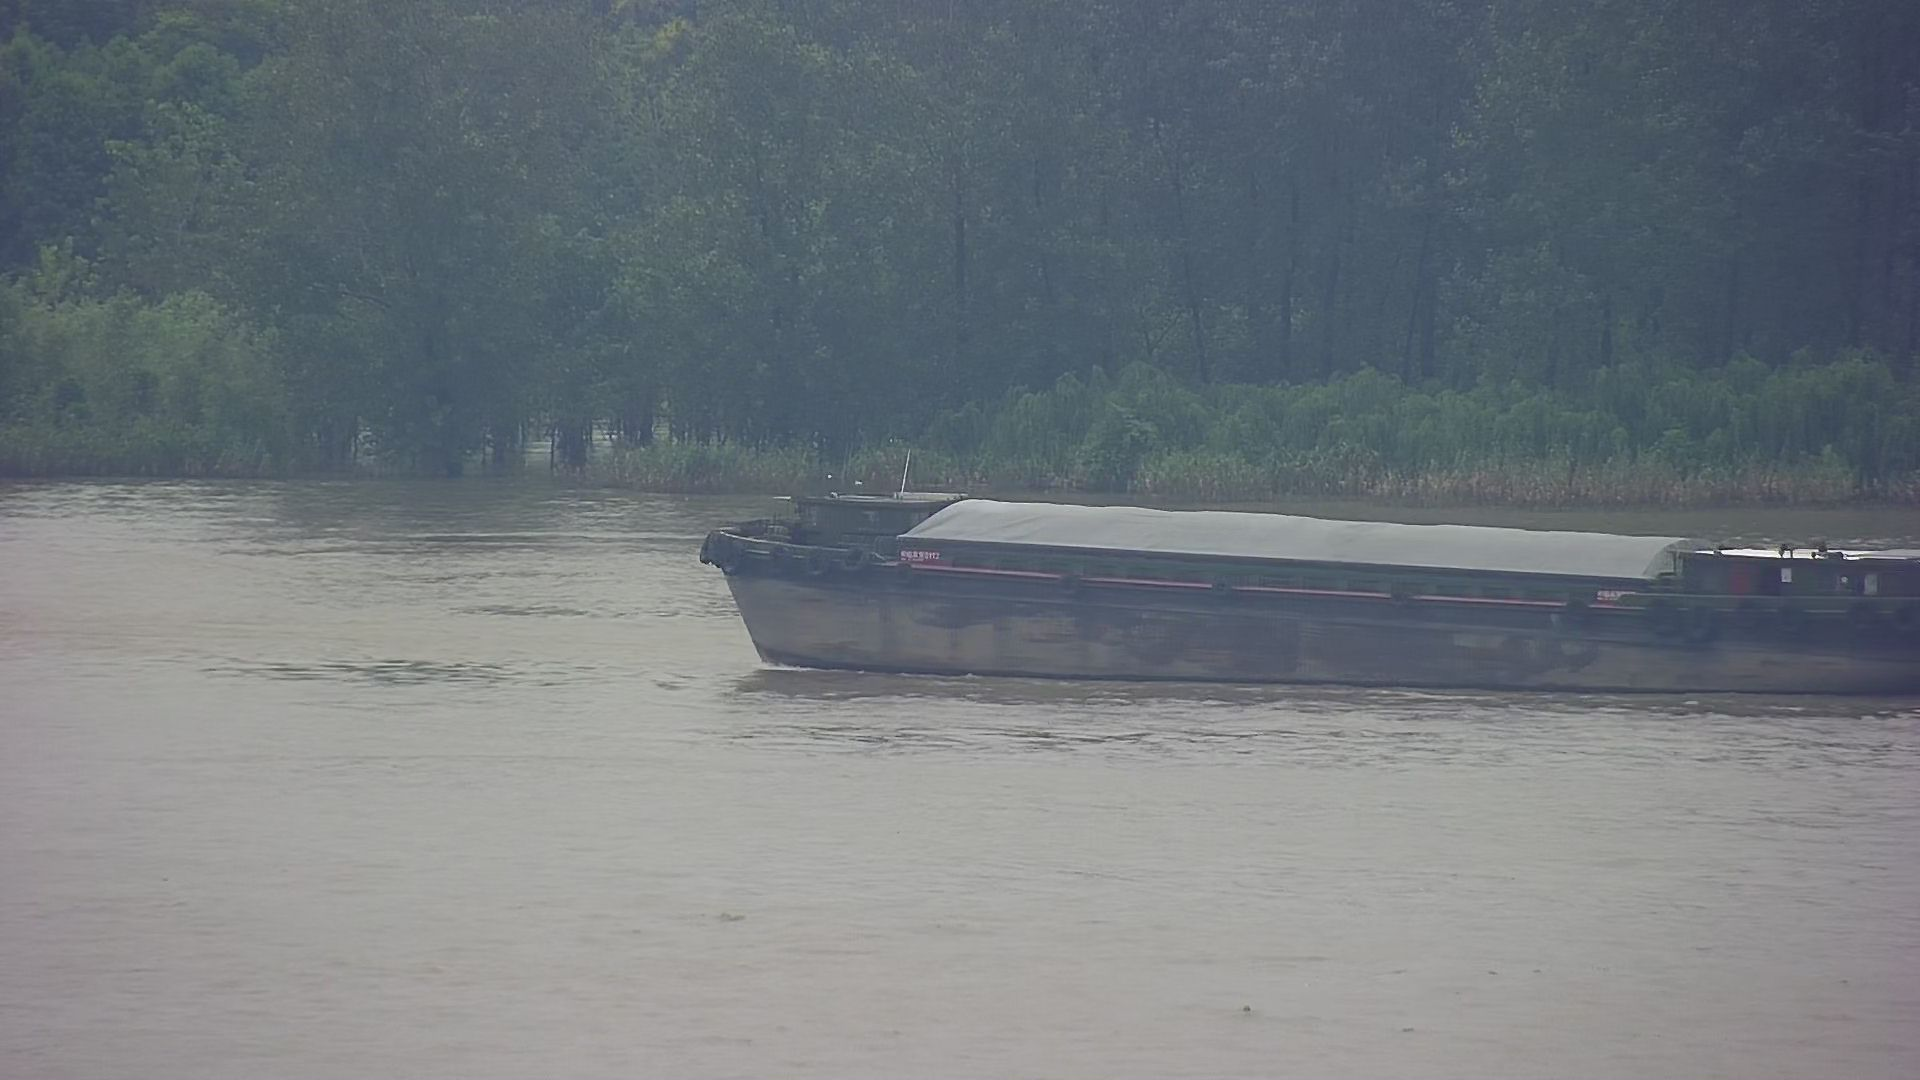ship: (684, 429, 1920, 732)
